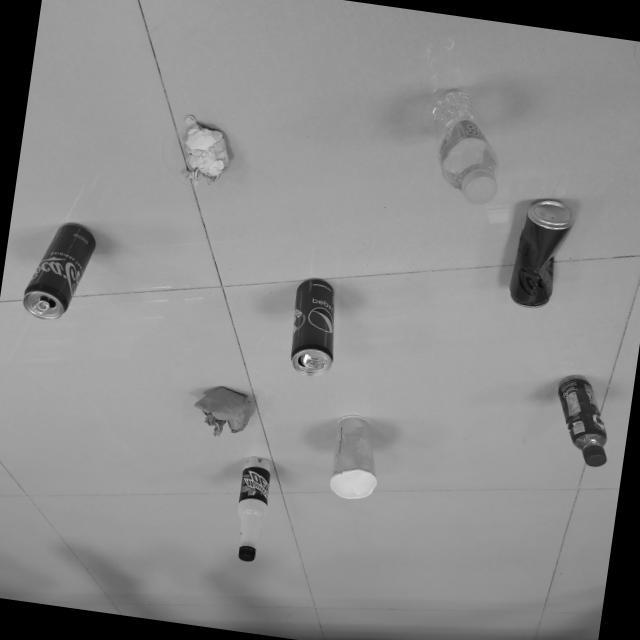recyclable waste: (414, 81, 514, 213), (15, 214, 104, 332), (503, 192, 581, 318), (544, 369, 622, 474), (280, 272, 348, 385), (322, 409, 391, 509), (226, 452, 280, 570), (168, 111, 240, 194), (187, 380, 261, 446)
